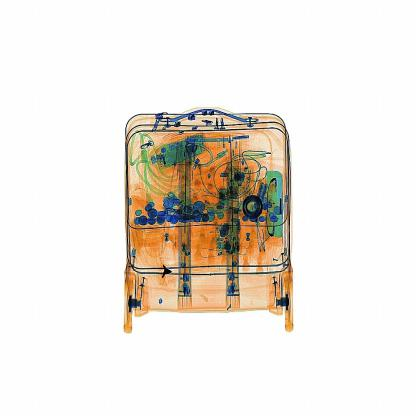gun: (154, 250, 178, 294)
